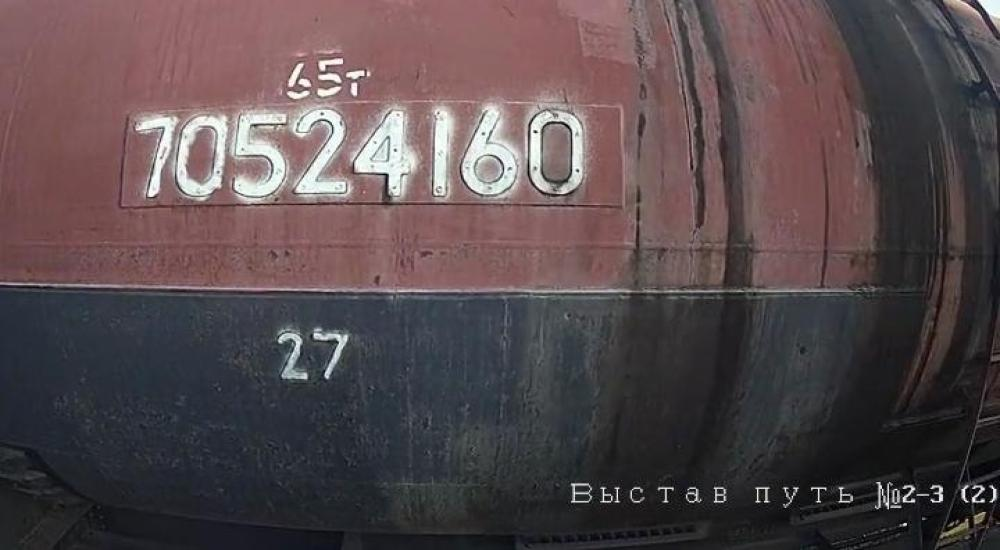Wagon-number: (128, 105, 590, 205)
